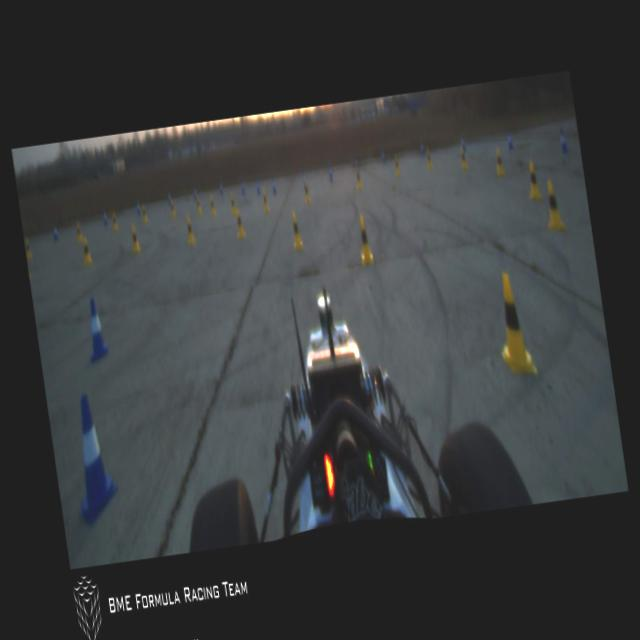blue_cone: (62, 390, 124, 530), (80, 295, 110, 365), (558, 128, 569, 155), (300, 168, 308, 188), (507, 133, 514, 151), (52, 225, 59, 242), (102, 212, 109, 227), (271, 178, 277, 195), (461, 136, 467, 153), (192, 185, 198, 201), (166, 190, 172, 206), (136, 200, 142, 216), (420, 140, 425, 156), (328, 166, 333, 182), (256, 180, 261, 196), (354, 155, 359, 171), (381, 150, 386, 164), (219, 182, 223, 195), (241, 182, 245, 194)
yellow_cone: (490, 270, 538, 380), (542, 177, 566, 232), (355, 212, 374, 266), (524, 160, 542, 200), (289, 210, 303, 249), (234, 210, 247, 238), (184, 214, 196, 244), (494, 148, 506, 178), (130, 224, 141, 253), (81, 237, 92, 265), (459, 146, 469, 170), (261, 189, 270, 213), (303, 180, 311, 203), (76, 221, 84, 242), (355, 170, 363, 190), (111, 212, 119, 232), (425, 148, 433, 168), (230, 193, 237, 214), (394, 155, 401, 175), (209, 196, 216, 215), (26, 238, 32, 260), (142, 205, 148, 223), (170, 200, 176, 218), (196, 196, 202, 214)
